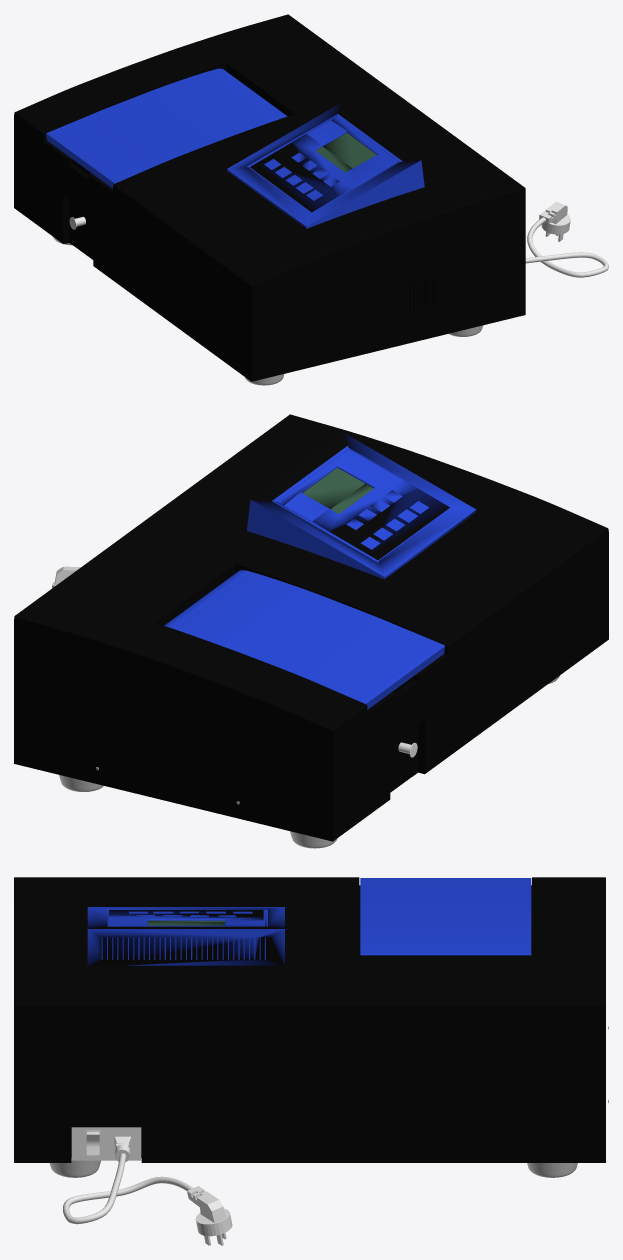
Rendered from 分光光度计.fbx.
3 renders of one model, top to bottom at view 1: azimuth 30°, elevation 25°; view 2: azimuth 150°, elevation 25°; view 3: azimuth 270°, elevation 25°, orthographic. The views are drawn at different scales.
Visible parts, largest first — view 1: Cylinder041, Box285, Box146, Line001; view 2: Cylinder041, Box285, Box146; view 3: Cylinder041, Box285, Box146, Box316, Line001, NGon001, Cone010, Cone012, Circle001.
Part boxes in pixels (x1=…): Cylinder041: x1=14, y1=14, x2=525, y2=381; Box285: x1=46, y1=68, x2=287, y2=188; Box146: x1=227, y1=102, x2=424, y2=228; Line001: x1=525, y1=217, x2=608, y2=277; Cylinder041: x1=14, y1=414, x2=608, y2=841; Box285: x1=164, y1=570, x2=444, y2=709; Box146: x1=247, y1=432, x2=476, y2=579; Cylinder041: x1=14, y1=877, x2=605, y2=1162; Box285: x1=360, y1=878, x2=531, y2=955; Box146: x1=87, y1=907, x2=284, y2=965; Box316: x1=71, y1=1127, x2=141, y2=1160; Line001: x1=63, y1=1153, x2=192, y2=1224; NGon001: x1=187, y1=1186, x2=226, y2=1222; Cone010: x1=49, y1=1158, x2=100, y2=1177; Cone012: x1=527, y1=1163, x2=577, y2=1177; Circle001: x1=195, y1=1208, x2=232, y2=1236.
Size of the model in its own units: 440 by 183 by 452.
